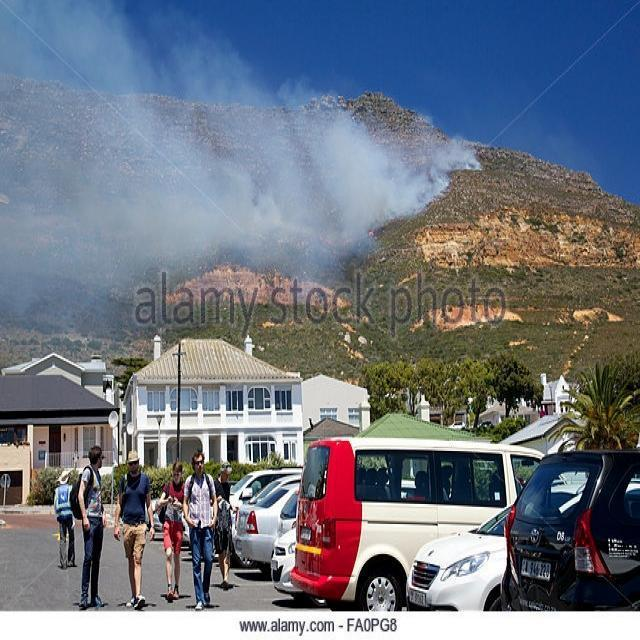Smoke: (11, 84, 436, 328)
